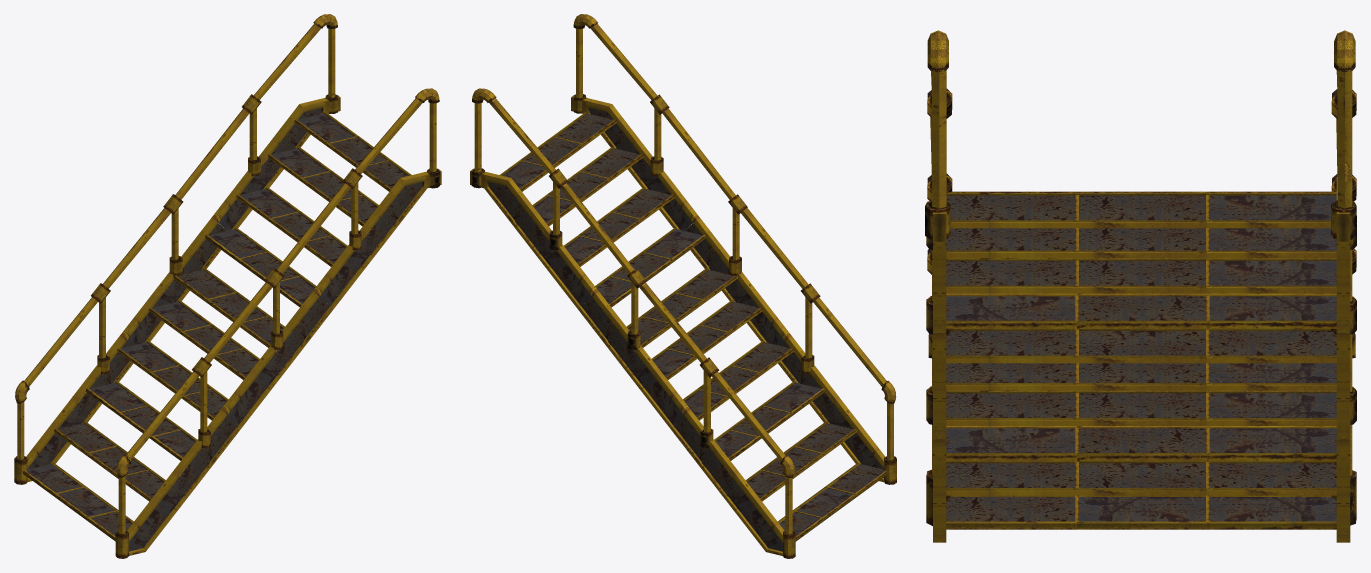
Rendered from stair.obj.
The picture shows the model from 3 angles, left to right: view 1: azimuth 30°, elevation 25°; view 2: azimuth 150°, elevation 25°; view 3: azimuth 270°, elevation 25°; orthographic projection. The views are drawn at different scales.
Parts seen in each view (by area): view 1: Mesh_ARCH_Stairs_Steel_Tal; view 2: Mesh_ARCH_Stairs_Steel_Tal; view 3: Mesh_ARCH_Stairs_Steel_Tal.
Boxes of the visible parts, x1=… form: Mesh_ARCH_Stairs_Steel_Tal: x1=14, y1=14, x2=441, y2=558; Mesh_ARCH_Stairs_Steel_Tal: x1=470, y1=14, x2=896, y2=558; Mesh_ARCH_Stairs_Steel_Tal: x1=925, y1=30, x2=1356, y2=542.
Bounding box in the file's own units: 146 × 170 × 84.68.
